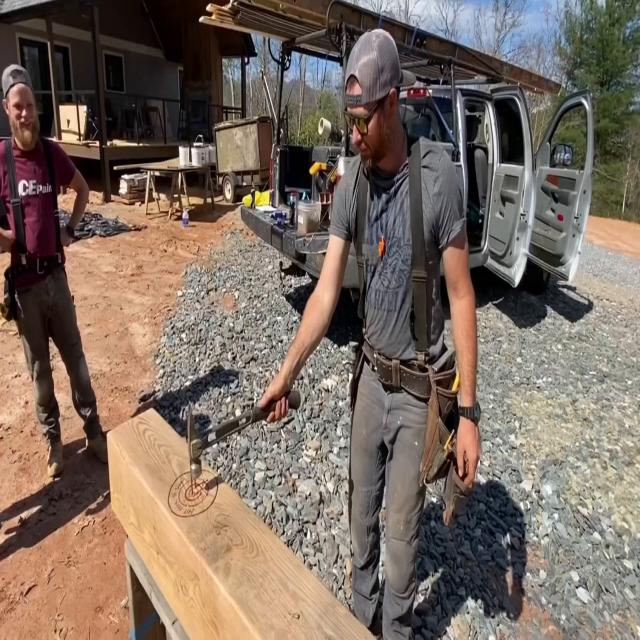hammer: (183, 389, 301, 481)
